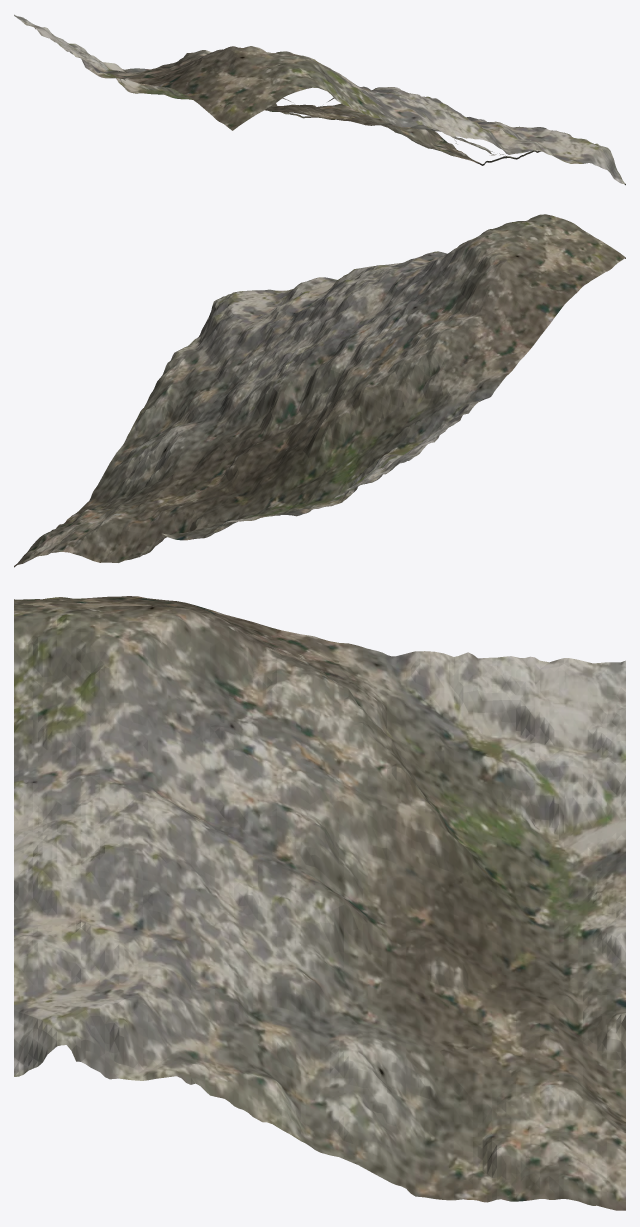
The picture shows the model from 3 angles, top to bottom: view 1: azimuth 30°, elevation 25°; view 2: azimuth 150°, elevation 25°; view 3: azimuth 270°, elevation 25°; orthographic projection. The views are drawn at different scales.
Bounding box in the file's own units: 250 × 166 × 241.
1 material, 1 textured.
